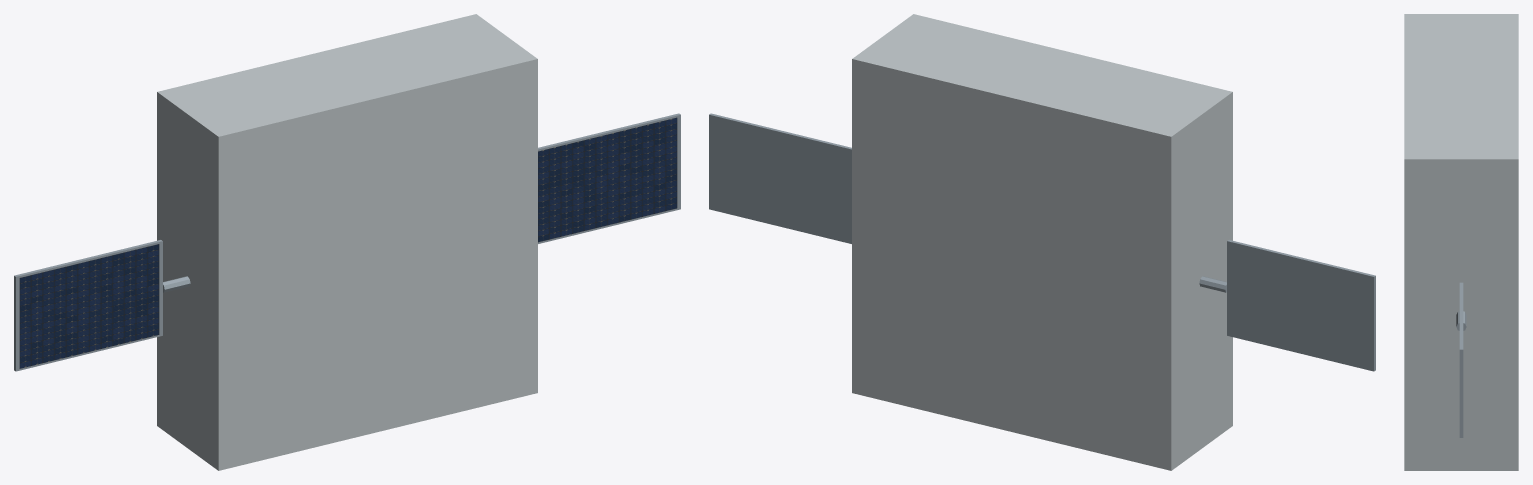
The model's file is ref-ampte-cce-15199.glb.
The picture shows the model from 3 angles, left to right: view 1: azimuth 30°, elevation 25°; view 2: azimuth 150°, elevation 25°; view 3: azimuth 270°, elevation 25°; orthographic projection. The views are drawn at different scales.
Visible parts, largest first — view 1: Spacecraft body, Photovoltaic laminates (×2), Array frame (×2); view 2: Spacecraft body, Array frame (×2); view 3: Spacecraft body, Array frame, Solar array drive.
Part boxes in pixels (left/top/right/bottom): Spacecraft body: left=157, top=14, right=537, bottom=470; Photovoltaic laminates (×2): left=19, top=117, right=677, bottom=368; Array frame (×2): left=14, top=113, right=680, bottom=371; Spacecraft body: left=852, top=14, right=1232, bottom=470; Array frame (×2): left=709, top=113, right=1375, bottom=371; Spacecraft body: left=1404, top=14, right=1518, bottom=470; Array frame: left=1459, top=282, right=1463, bottom=437; Solar array drive: left=1456, top=311, right=1466, bottom=330.
Size of the model in its own units: 2.5 by 1.2 by 0.4.
3 materials, 1 textured.
